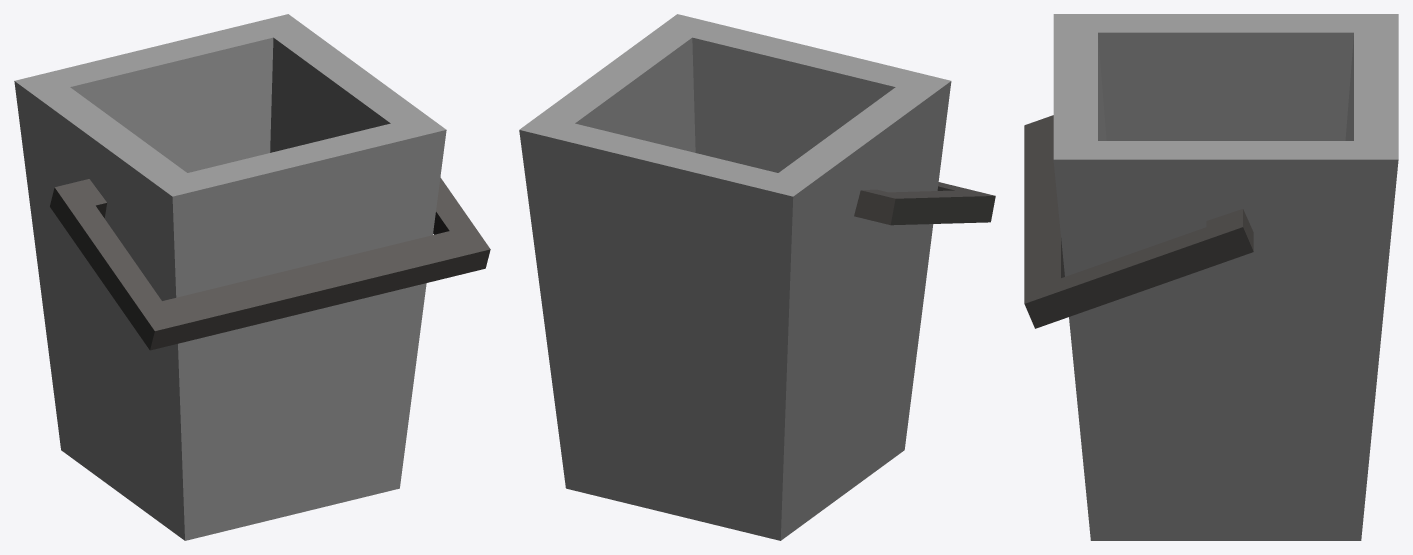
Rendered from AI_Prop_Bucket.fbx.
The picture shows the model from 3 angles, left to right: view 1: azimuth 30°, elevation 25°; view 2: azimuth 150°, elevation 25°; view 3: azimuth 270°, elevation 25°; orthographic projection. The views are drawn at different scales.
Parts seen in each view (by area): view 1: AI_Prop_Bucket; view 2: AI_Prop_Bucket; view 3: AI_Prop_Bucket.
Boxes of the visible parts, x1,y1,x2,y2 form: AI_Prop_Bucket: [14, 14, 490, 540]; AI_Prop_Bucket: [519, 14, 995, 540]; AI_Prop_Bucket: [1024, 14, 1398, 540].
Size of the model in its own units: 0.5386 by 0.5581 by 0.4767.
